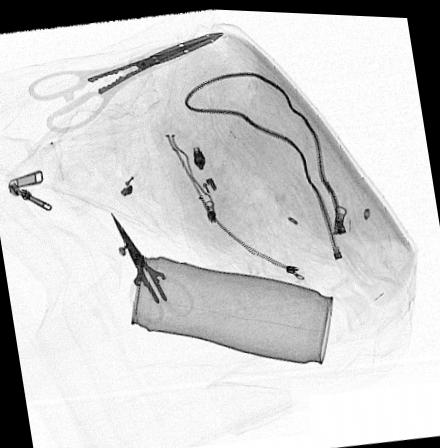Scissors: (27, 27, 229, 132), (105, 204, 195, 325)
